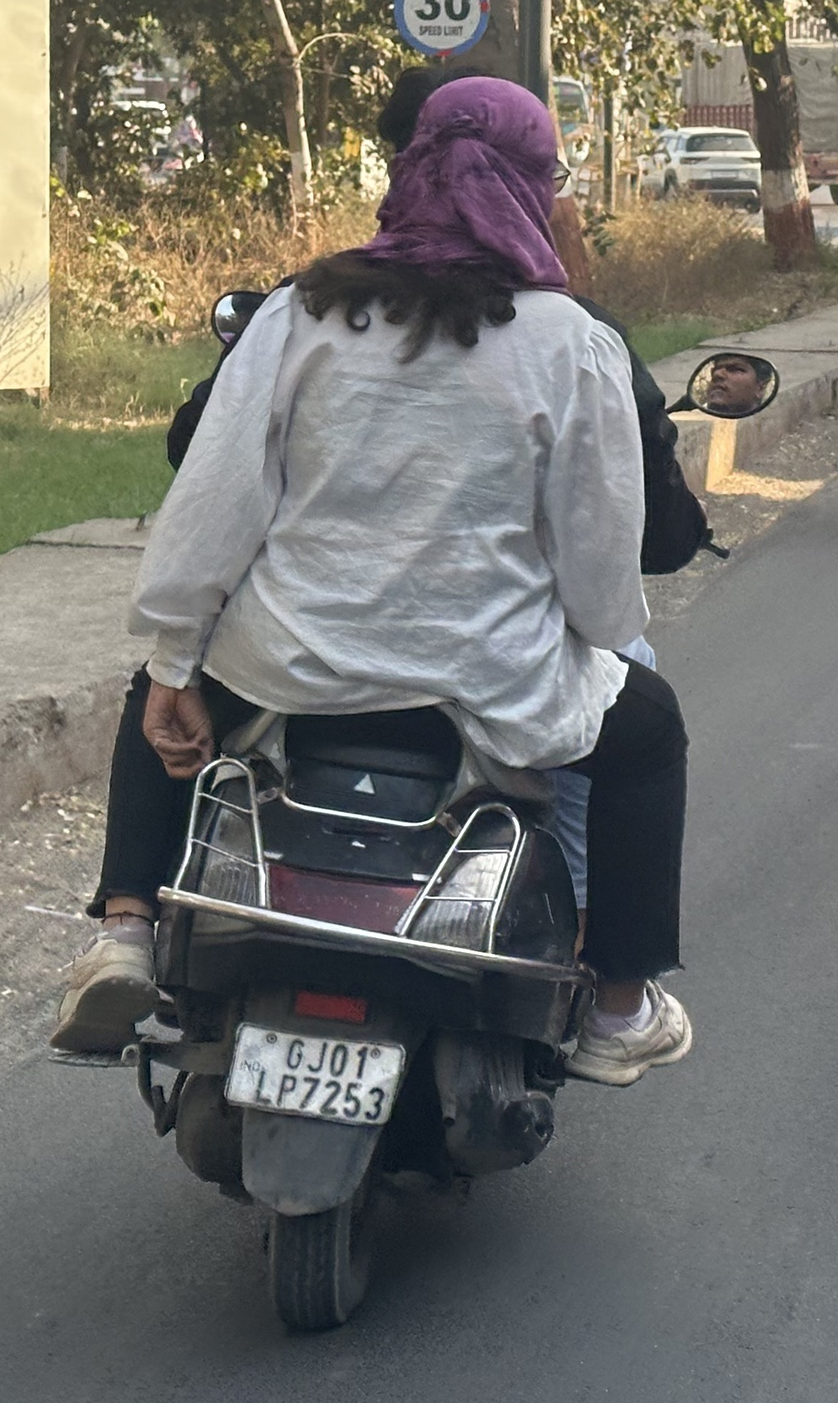BikeWithRider: (31, 55, 791, 1347)
NoHelmet: (355, 64, 584, 290)
